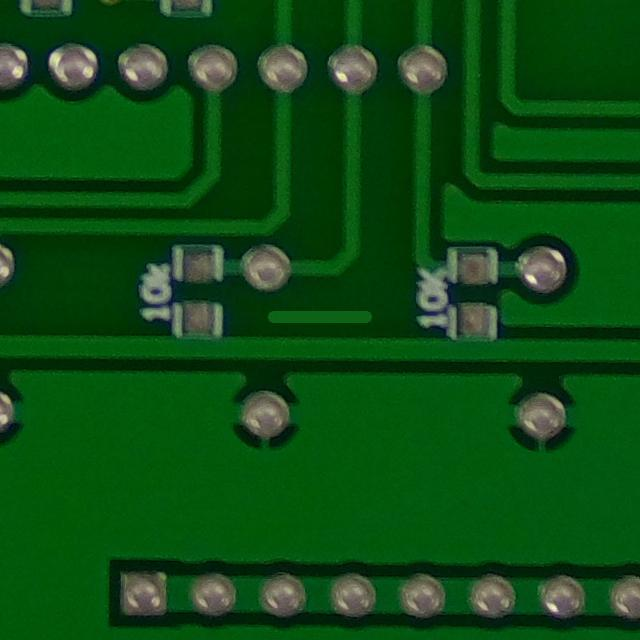spurious_copper: (257, 296, 384, 344)
